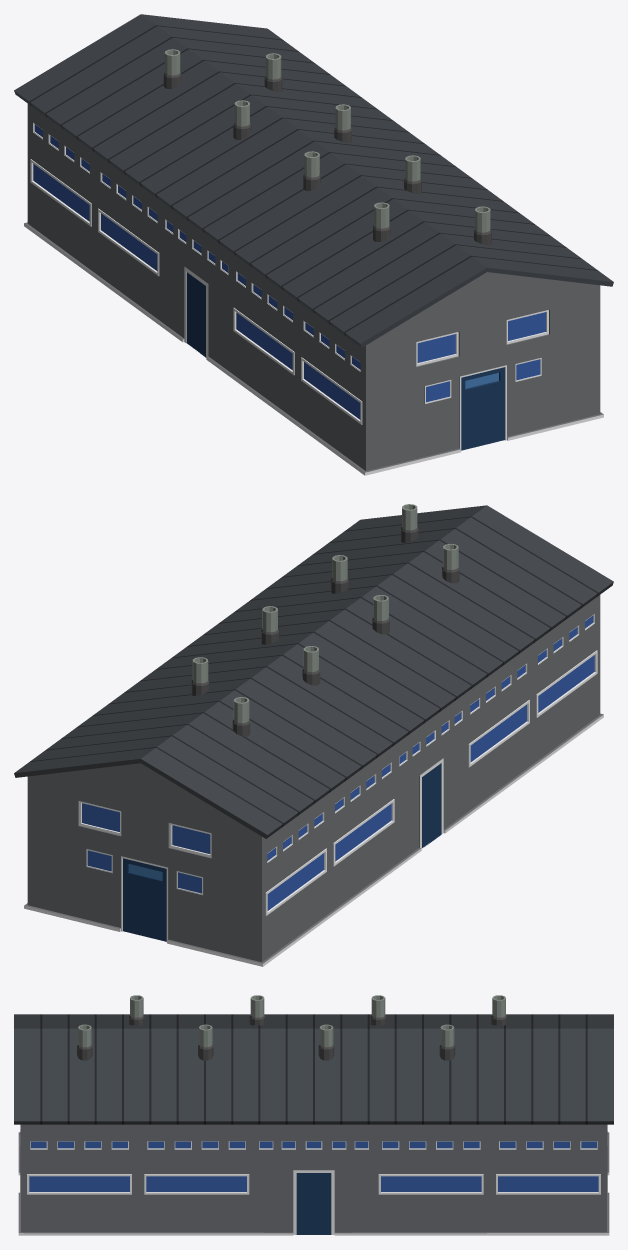
File: Factory_2.fbx
3 views of the same model, one above another, from view 1: azimuth 30°, elevation 25°; view 2: azimuth 150°, elevation 25°; view 3: azimuth 270°, elevation 25° (orthographic). The views are drawn at different scales.
Parts seen in each view (by area): view 1: Factory_2; view 2: Factory_2; view 3: Factory_2.
Part boxes in pixels (x1,y1,x2,y2): Factory_2: [14, 14, 613, 475]; Factory_2: [14, 504, 613, 966]; Factory_2: [14, 995, 613, 1235].
Bounding box in the file's own units: 673 × 507 × 1593.
